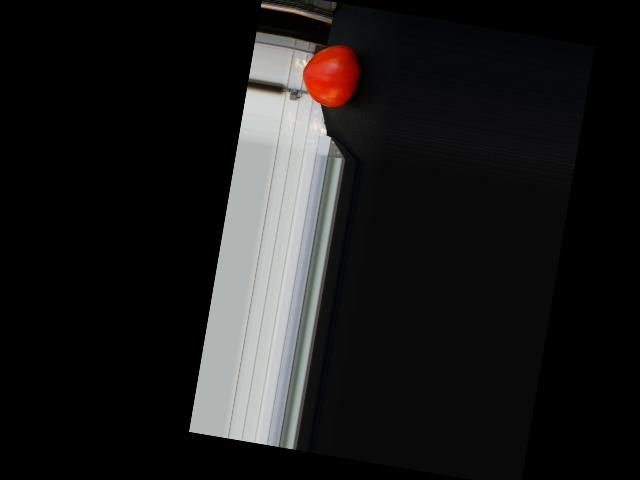tomato: (297, 39, 364, 111)
